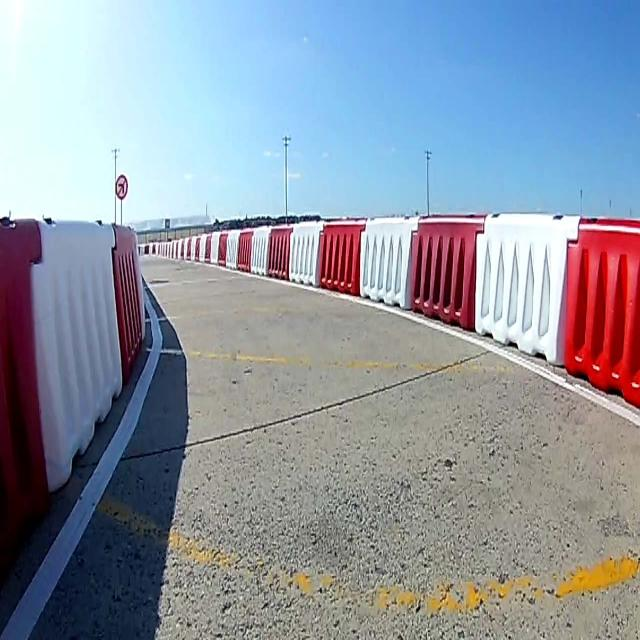soladonulmez: (116, 173, 128, 199)
